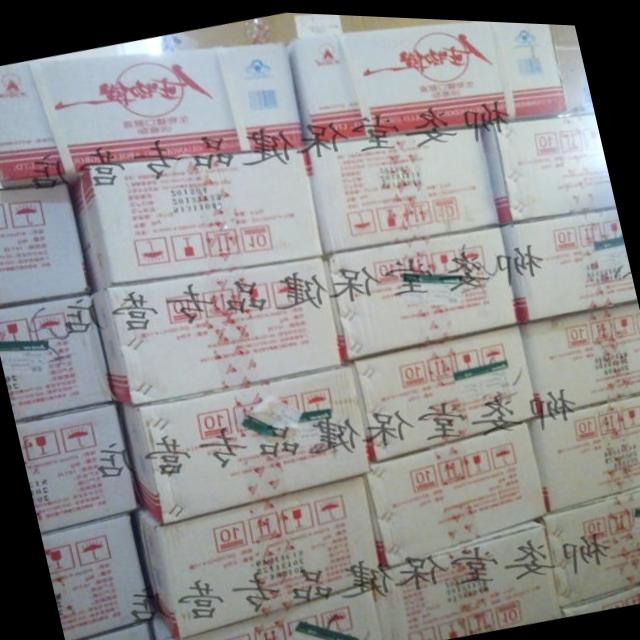box: (0, 38, 301, 189), (116, 357, 377, 523), (136, 472, 379, 637), (89, 255, 345, 404), (69, 146, 324, 292), (284, 17, 567, 144), (367, 417, 550, 568), (326, 220, 518, 358), (354, 320, 539, 457), (303, 122, 499, 251), (370, 511, 565, 640), (16, 401, 139, 532), (502, 201, 637, 317), (480, 109, 616, 221), (0, 291, 113, 422), (42, 509, 152, 640), (152, 579, 384, 640), (521, 297, 640, 413), (531, 389, 640, 506), (539, 484, 640, 601), (0, 182, 86, 305), (565, 578, 640, 608), (76, 614, 156, 640)
